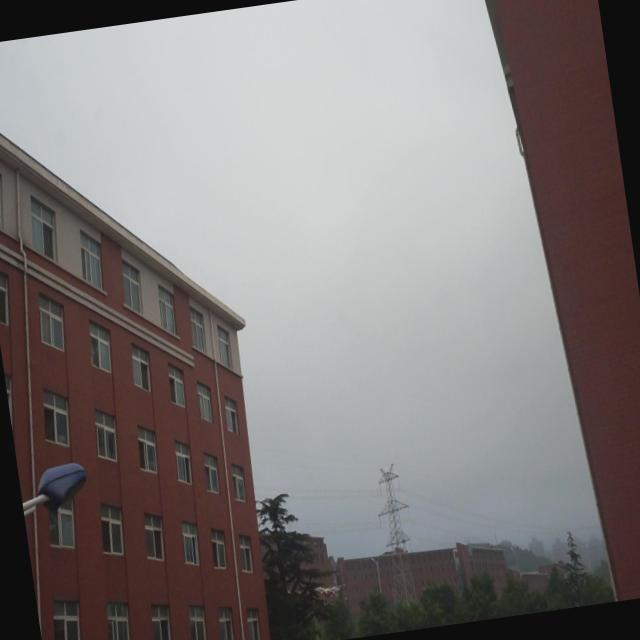drone: (312, 576, 348, 613)
